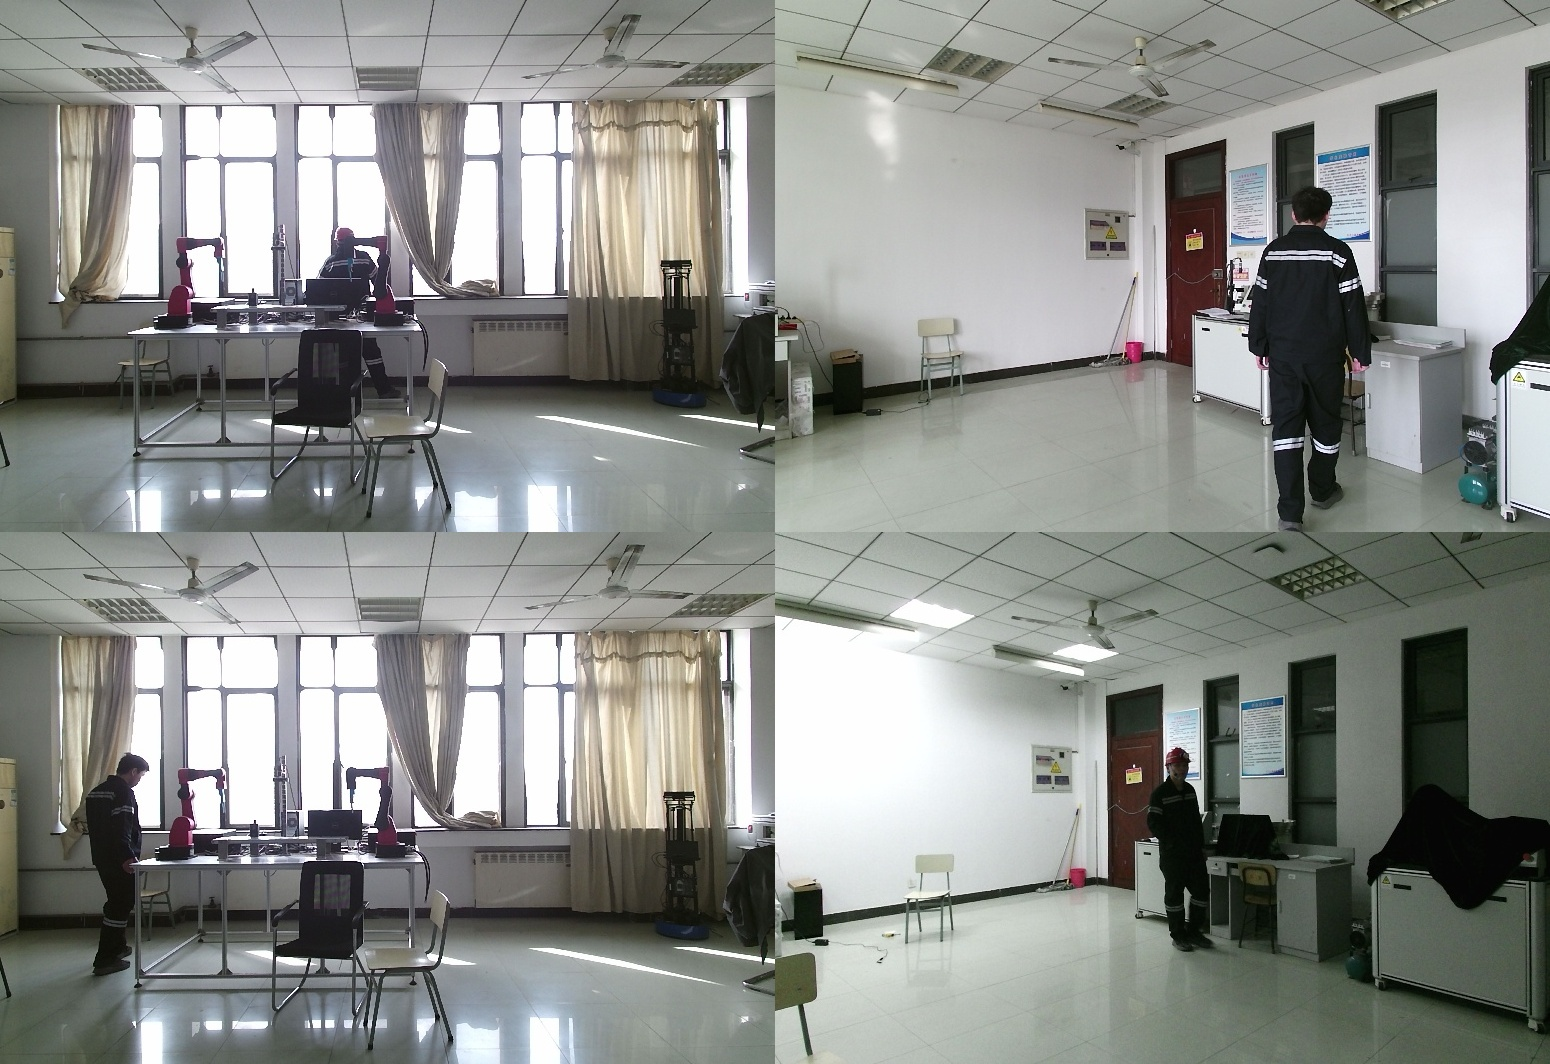person: (1246, 186, 1378, 532), (83, 755, 150, 977), (314, 229, 395, 402), (1143, 749, 1205, 956)
